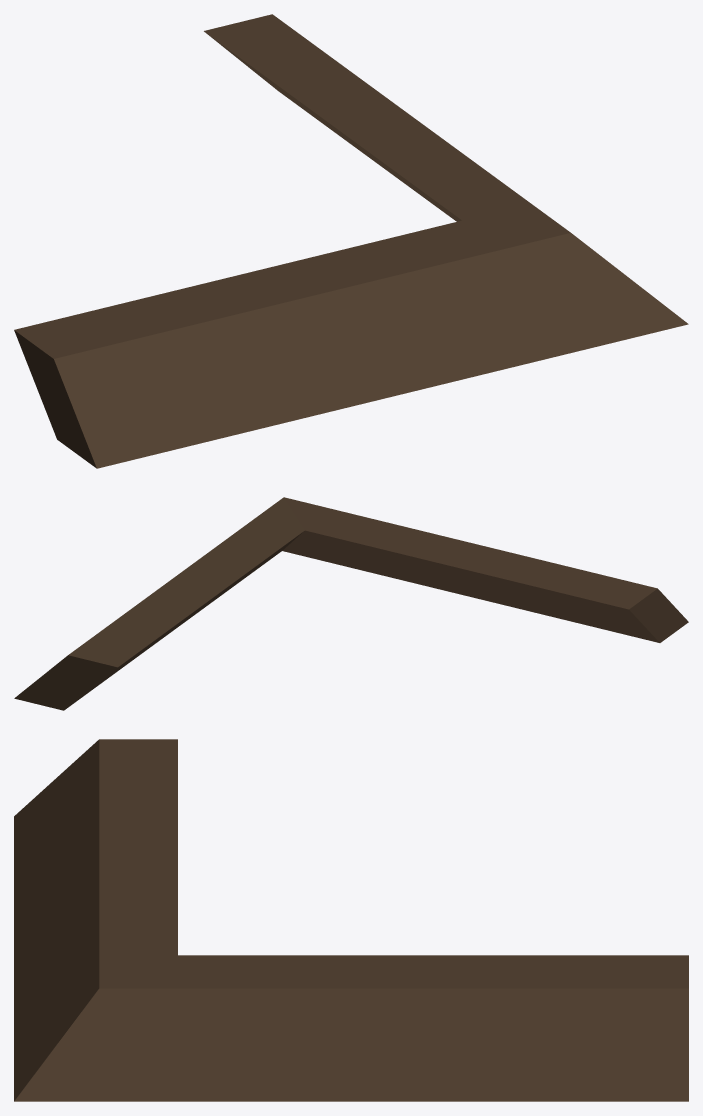
The model's file is buildings-roof-wood-corner-out-edge-bottom.glb.
3 renders of one model, top to bottom at view 1: azimuth 30°, elevation 25°; view 2: azimuth 150°, elevation 25°; view 3: azimuth 270°, elevation 25°, orthographic. The views are drawn at different scales.
Visible parts, largest first — view 1: roof-wood-corner-out-edge-bottom; view 2: roof-wood-corner-out-edge-bottom; view 3: roof-wood-corner-out-edge-bottom.
Boxes of the visible parts, x1,y1,x2,y2 form: roof-wood-corner-out-edge-bottom: [14, 14, 688, 468]; roof-wood-corner-out-edge-bottom: [14, 497, 688, 710]; roof-wood-corner-out-edge-bottom: [14, 739, 688, 1101].
Bounding box in the file's own units: 3.96 × 0.5003 × 3.96.
